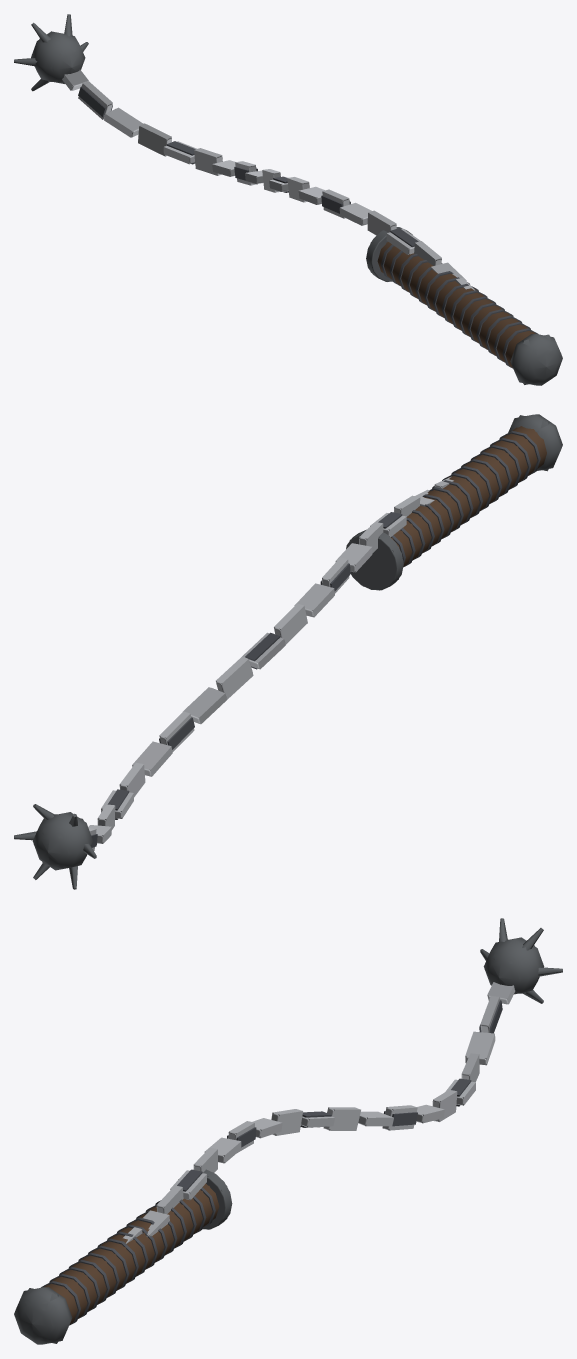
The model's file is m_chainwhip.glb.
3 renders of one model, top to bottom at view 1: azimuth 30°, elevation 25°; view 2: azimuth 150°, elevation 25°; view 3: azimuth 330°, elevation 25°, orthographic. The views are drawn at different scales.
Parts seen in each view (by area): view 1: L0, L1; view 2: L0, L1; view 3: L0, L1.
Part boxes in pixels (x1,y1,x2,y2): L0: (14, 14, 562, 385); L1: (39, 33, 560, 384); L0: (14, 414, 562, 889); L1: (34, 415, 549, 867); L0: (14, 918, 562, 1344); L1: (16, 939, 534, 1343).
Bounding box in the file's own units: 0.0855 × 0.0931 × 0.7661.
